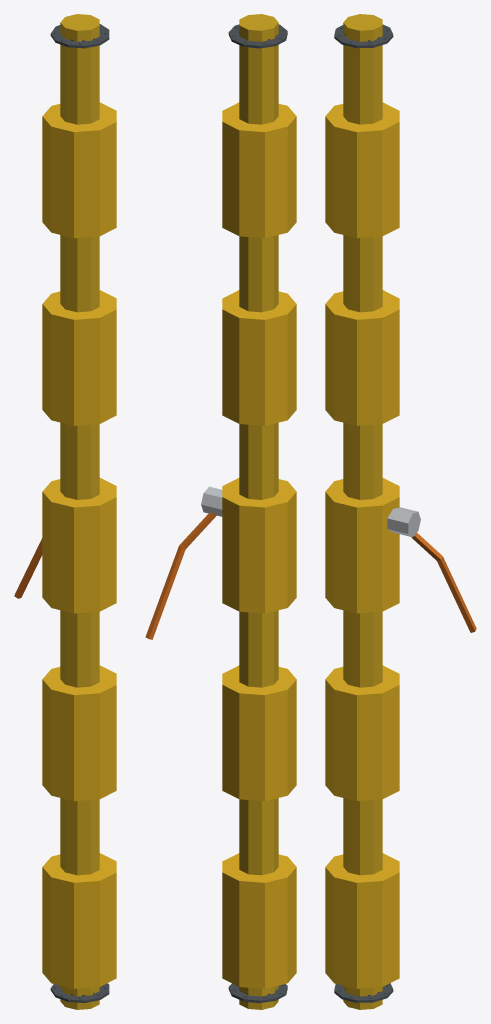
Rendered from off_riser_joint.glb.
3 views of the same model, side by side, from view 1: azimuth 90°, elevation 25°; view 2: azimuth 150°, elevation 25°; view 3: azimuth 330°, elevation 25° (orthographic).
Parts seen in each view (by area): view 1: off_riser_joint; view 2: off_riser_joint; view 3: off_riser_joint.
Part boxes in pixels (x1=…): off_riser_joint: x1=14, y1=14, x2=116, y2=1009; off_riser_joint: x1=145, y1=14, x2=296, y2=1009; off_riser_joint: x1=325, y1=14, x2=476, y2=1009.
Size of the model in its own units: 2.92 by 24 by 2.27.
